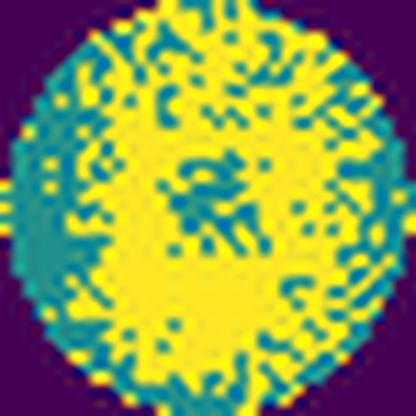Donut: (55, 0, 396, 393)
